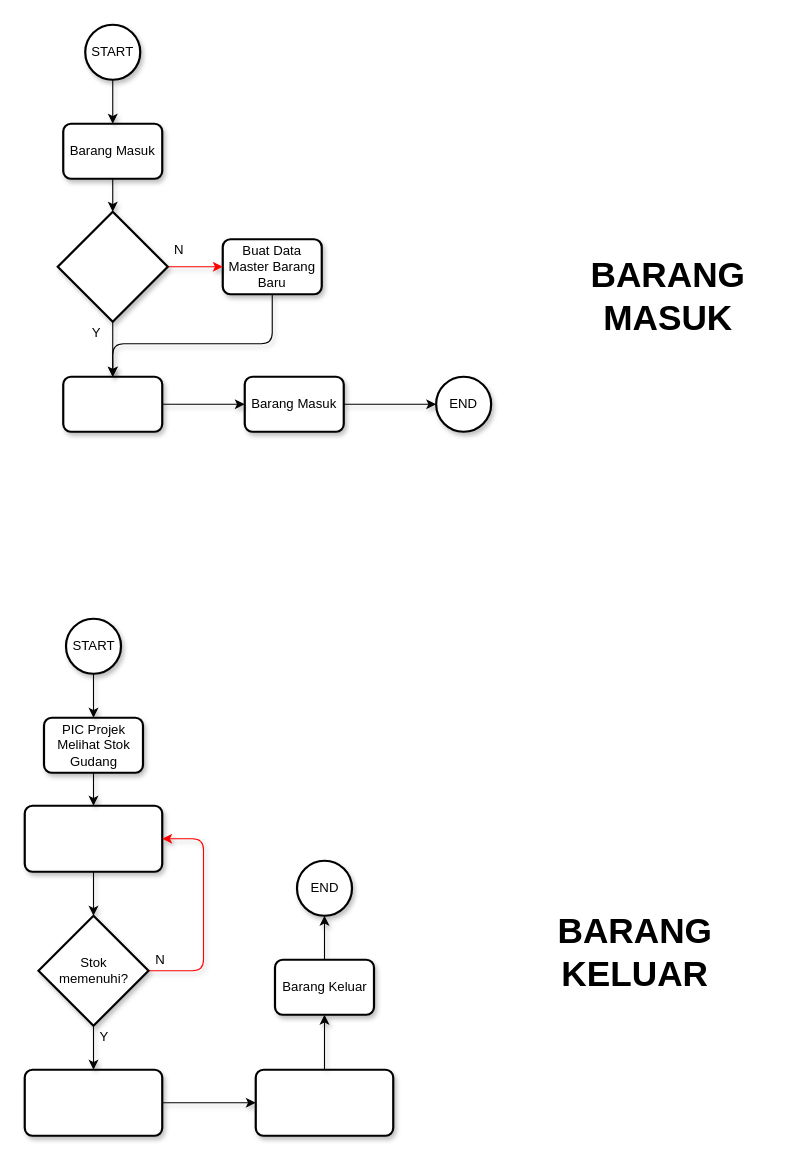
The diagram is 802 pixels wide and 1163 high, and some of its shapes have lost their labels. Each missing label, with the centre of its shape:
"Apakah Jenis Barang Baru?" goes at (113,268).
"Pendataan Barang Keluar" goes at (325,1104).
"Pendataan Barang Masuk" goes at (113,405).
"PIC menyesuaikan ketersediaan barang dengan pemesanan" goes at (94,840).
"PIC Terbitkan DO (Delivery order)" goes at (94,1104).
